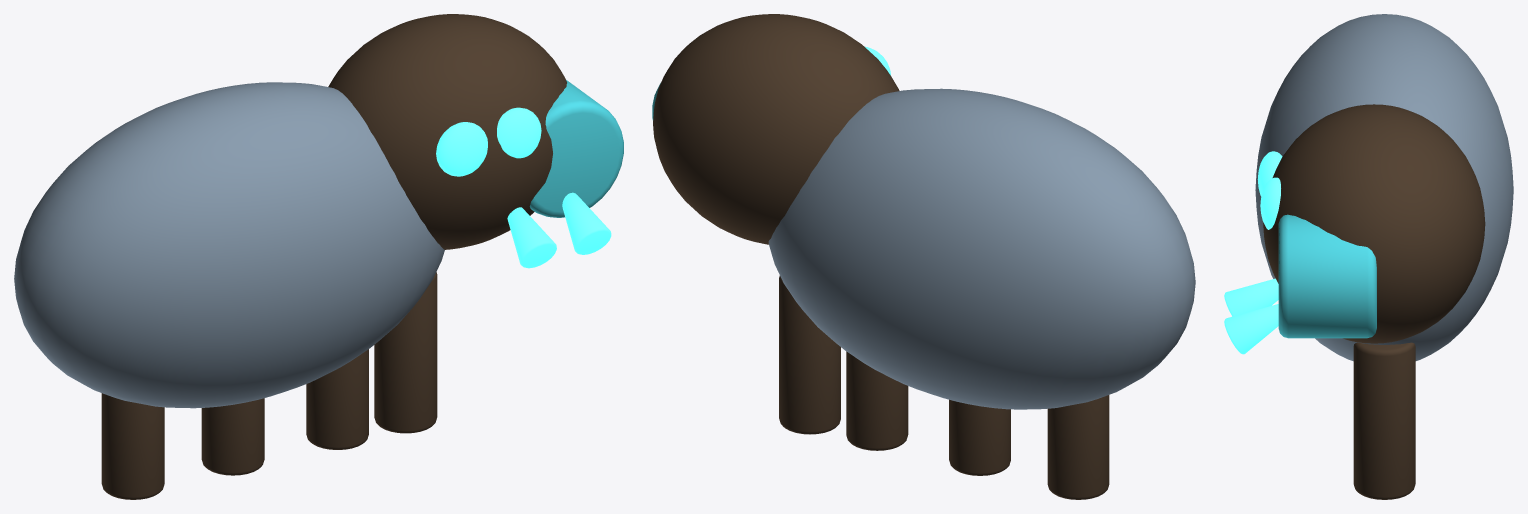
Rendered from quadruped_v3.glb.
The picture shows the model from 3 angles, left to right: view 1: azimuth 30°, elevation 25°; view 2: azimuth 150°, elevation 25°; view 3: azimuth 270°, elevation 25°; orthographic projection.
Parts seen in each view (by area): view 1: BOAR_BODY_PRIMARY, BOAR_HEAD_SECONDARY, BOAR_SNOUT_ACCENT, BOAR_LEG_SECONDARY.003, BOAR_LEG_SECONDARY, BOAR_LEG_SECONDARY.002, BOAR_LEG_SECONDARY.001, EYE_EMISSIVE, BOAR_TUSK_EMISSIVE.001, BOAR_TUSK_EMISSIVE, EYE_EMISSIVE.001; view 2: BOAR_BODY_PRIMARY, BOAR_HEAD_SECONDARY, BOAR_LEG_SECONDARY.003, BOAR_LEG_SECONDARY, BOAR_LEG_SECONDARY.002, BOAR_LEG_SECONDARY.001; view 3: BOAR_HEAD_SECONDARY, BOAR_BODY_PRIMARY, BOAR_SNOUT_ACCENT, BOAR_LEG_SECONDARY.003, BOAR_TUSK_EMISSIVE.001, BOAR_TUSK_EMISSIVE, EYE_EMISSIVE.001, EYE_EMISSIVE.
Boxes of the visible parts, left/top/right/bottom form: BOAR_BODY_PRIMARY: left=14, top=82, right=444, bottom=408; BOAR_HEAD_SECONDARY: left=328, top=14, right=566, bottom=249; BOAR_SNOUT_ACCENT: left=529, top=80, right=623, bottom=217; BOAR_LEG_SECONDARY.003: left=374, top=272, right=437, bottom=433; BOAR_LEG_SECONDARY: left=101, top=393, right=164, bottom=499; BOAR_LEG_SECONDARY.002: left=306, top=349, right=368, bottom=449; BOAR_LEG_SECONDARY.001: left=201, top=398, right=264, bottom=475; EYE_EMISSIVE: left=436, top=122, right=487, bottom=176; BOAR_TUSK_EMISSIVE.001: left=562, top=192, right=611, bottom=254; BOAR_TUSK_EMISSIVE: left=507, top=207, right=556, bottom=268; EYE_EMISSIVE.001: left=497, top=107, right=541, bottom=158; BOAR_BODY_PRIMARY: left=768, top=88, right=1195, bottom=409; BOAR_HEAD_SECONDARY: left=653, top=14, right=899, bottom=244; BOAR_LEG_SECONDARY.003: left=779, top=275, right=840, bottom=434; BOAR_LEG_SECONDARY: left=1047, top=395, right=1109, bottom=499; BOAR_LEG_SECONDARY.002: left=846, top=351, right=908, bottom=450; BOAR_LEG_SECONDARY.001: left=949, top=399, right=1010, bottom=475; BOAR_HEAD_SECONDARY: left=1263, top=104, right=1485, bottom=343; BOAR_BODY_PRIMARY: left=1255, top=14, right=1513, bottom=361; BOAR_SNOUT_ACCENT: left=1278, top=214, right=1376, bottom=338; BOAR_LEG_SECONDARY.003: left=1353, top=342, right=1415, bottom=499; BOAR_TUSK_EMISSIVE.001: left=1224, top=304, right=1278, bottom=354; BOAR_TUSK_EMISSIVE: left=1224, top=278, right=1278, bottom=316; EYE_EMISSIVE.001: left=1260, top=177, right=1280, bottom=229; EYE_EMISSIVE: left=1257, top=151, right=1282, bottom=196.
Bounding box in the file's own units: 1.98 × 1.35 × 0.9191.
